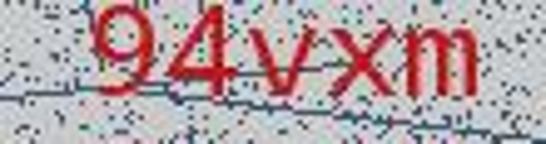4: (165, 2, 239, 104)
9: (84, 3, 158, 112)
m: (400, 17, 488, 106)
v: (244, 19, 317, 103)
x: (320, 17, 397, 109)
